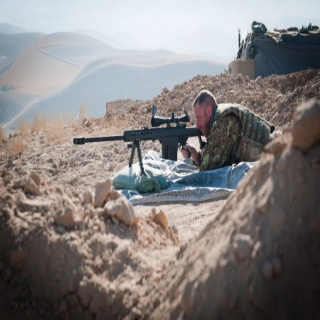rifle: (72, 112, 212, 175)
